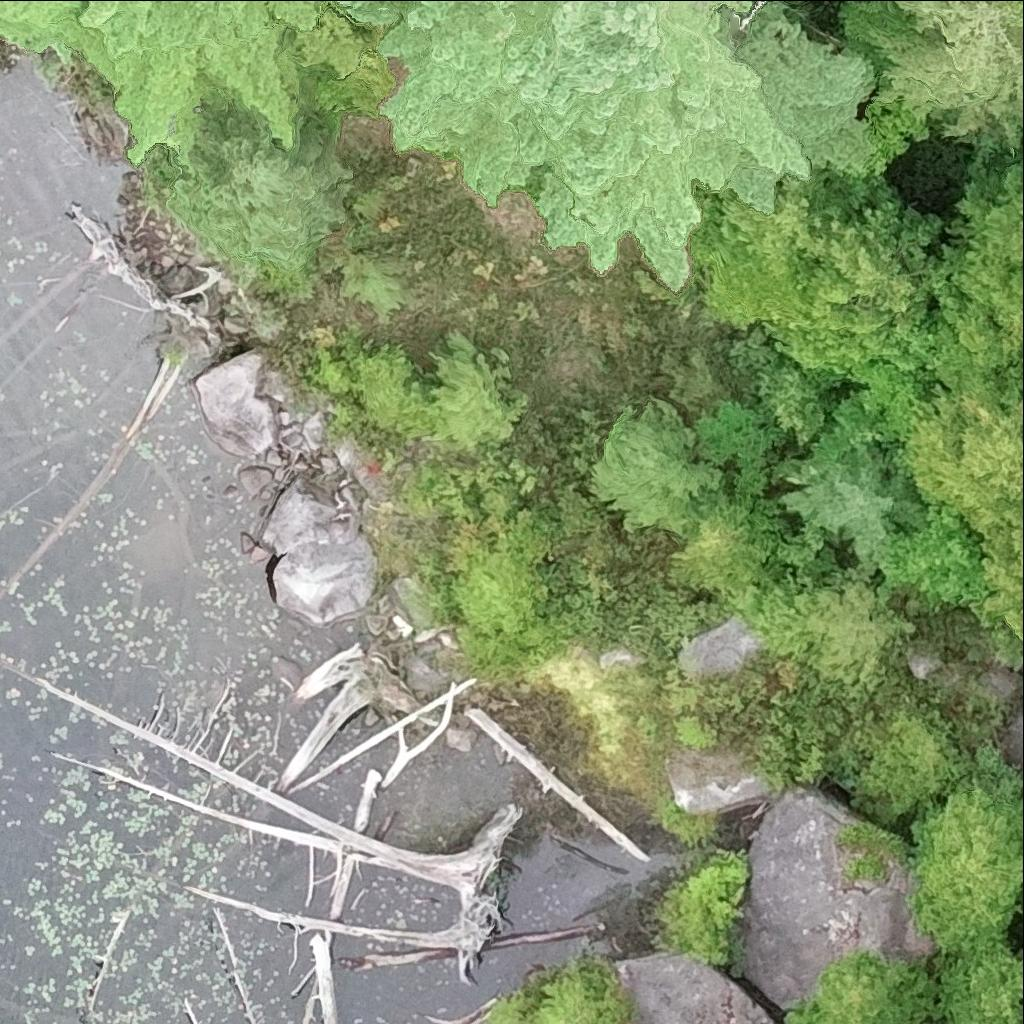crown: (344, 0, 813, 288), (685, 159, 940, 437), (0, 0, 374, 159), (802, 320, 1023, 513), (168, 88, 353, 270), (840, 0, 1023, 153), (723, 0, 875, 180), (927, 137, 1023, 385), (718, 564, 916, 678), (777, 434, 934, 573), (591, 404, 730, 539), (913, 789, 1023, 958), (856, 700, 978, 833), (667, 505, 827, 595), (316, 334, 440, 437), (875, 503, 993, 611), (421, 328, 525, 444), (454, 512, 552, 633), (787, 950, 944, 1023), (956, 504, 1023, 625), (939, 943, 1023, 1023), (529, 957, 629, 1023), (464, 617, 574, 675), (863, 101, 934, 177), (485, 990, 538, 1023), (993, 0, 1023, 25), (1014, 800, 1023, 806)
